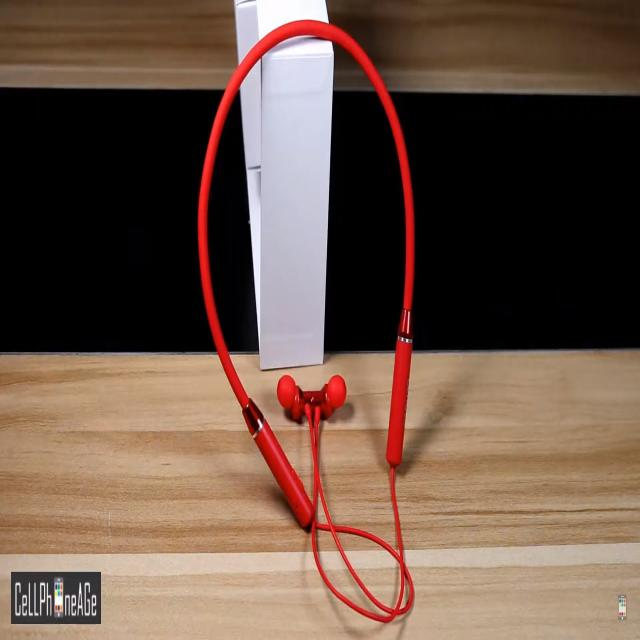Neckband: (196, 18, 418, 625)
